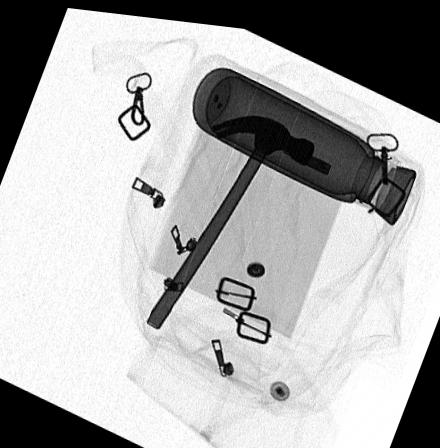Hammer: (146, 107, 316, 326)
